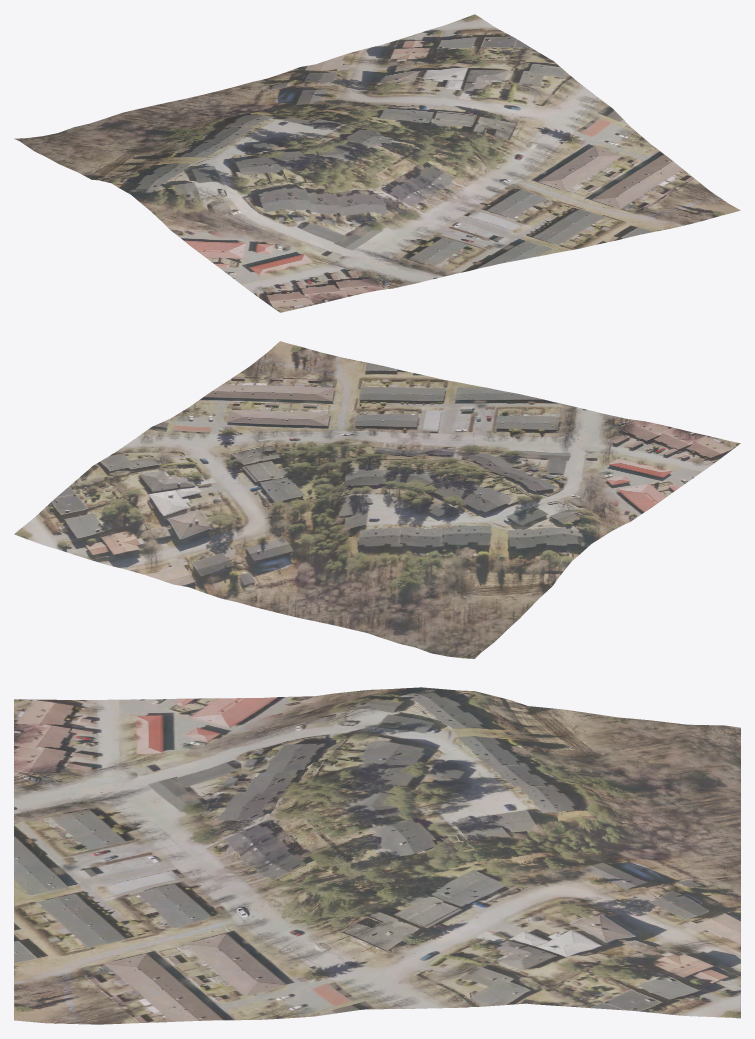
Rendered from CM_Terrain_24491687_6817541.fbx.
The picture shows the model from 3 angles, top to bottom: view 1: azimuth 30°, elevation 25°; view 2: azimuth 150°, elevation 25°; view 3: azimuth 270°, elevation 25°; orthographic projection. The views are drawn at different scales.
Visible parts, largest first — view 1: CM_Terrain_24491687_6817541_LOD0; view 2: CM_Terrain_24491687_6817541_LOD0; view 3: CM_Terrain_24491687_6817541_LOD0.
Part boxes in pixels (x1=…): CM_Terrain_24491687_6817541_LOD0: x1=14, y1=14, x2=740, y2=312; CM_Terrain_24491687_6817541_LOD0: x1=14, y1=341, x2=740, y2=658; CM_Terrain_24491687_6817541_LOD0: x1=14, y1=687, x2=740, y2=1024.
Size of what is drawn, in the model's own units: 205 by 18.63 by 205.
